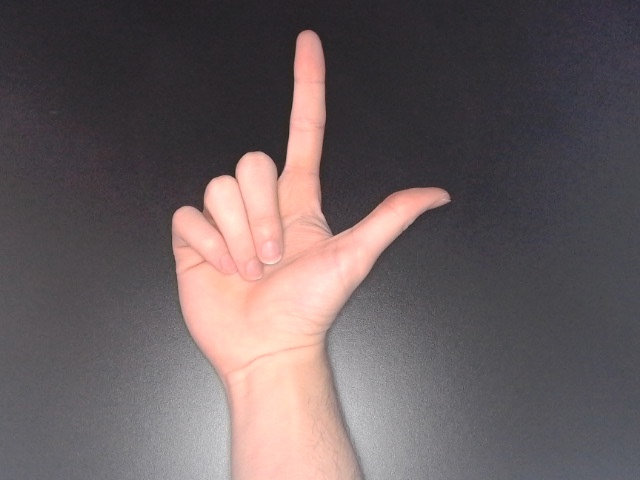l: (165, 24, 455, 392)
